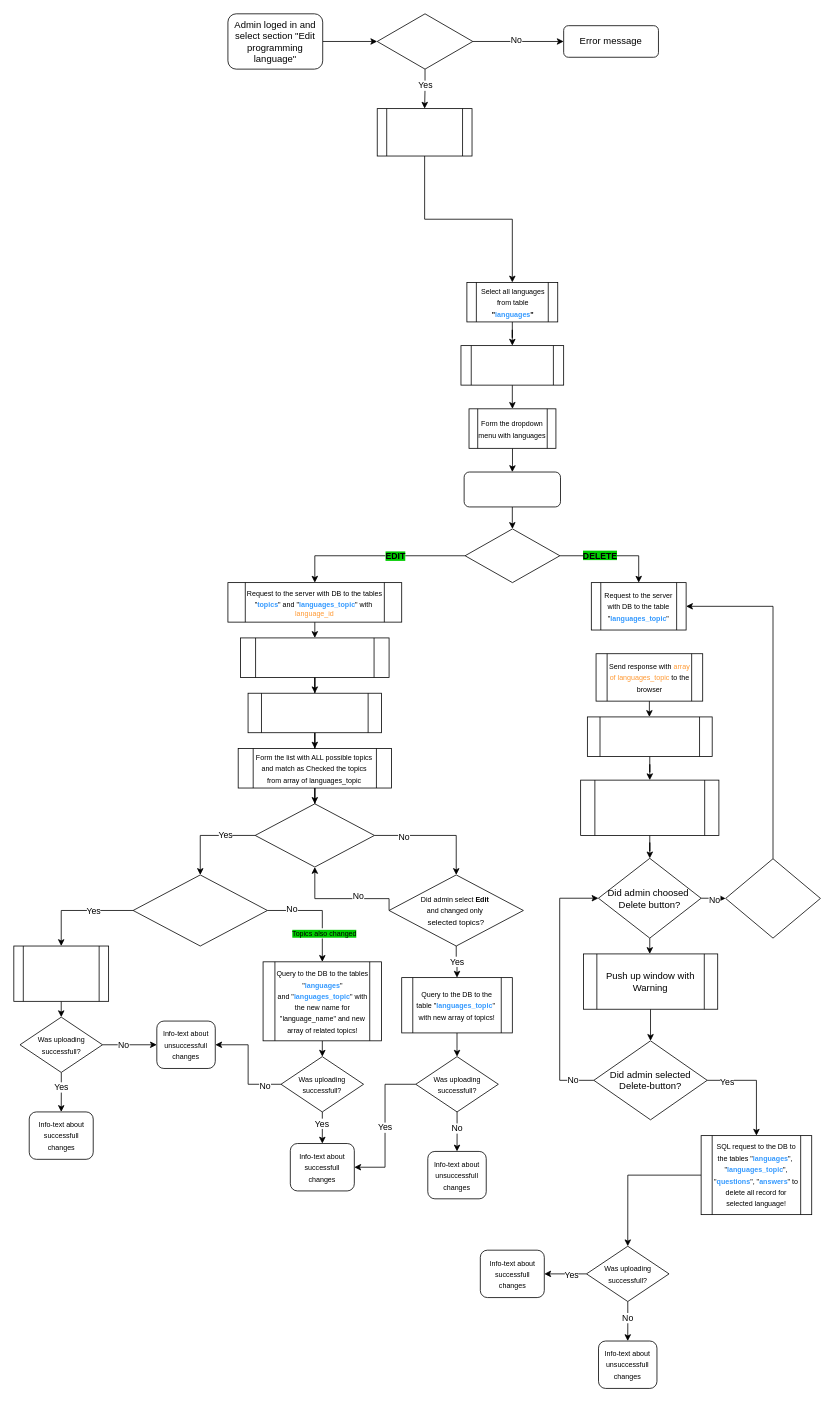
This 834x1402 diagram has some shape labels left out. The centre of each missing label's shape, as x and y in pixels:
Admin chosed programming language: point 512,489
Admin selected button: point 512,555
Connection to server?: point 424,41
Did admin change programming language's name?: point 314,835
Did admin choosed another language?: point 772,898
Did admin select Edit and changed only programming language's name?: point 199,910
Form the dropdown menu with selected option = selected programming language: point 649,736
Form the input field with value = name of selected programming language: point 314,712
Form the UNACTIVE list with all RELATED topics to selected programming language: point 649,807
Query to the DB to the table " languages " with the new name for "language_name": point 61,973
Request to server with DB to the table "languages": point 424,132
Send response with array of languages to the browser: point 512,365
Send response with array of topics and array of languages_topic to the browser: point 314,657
